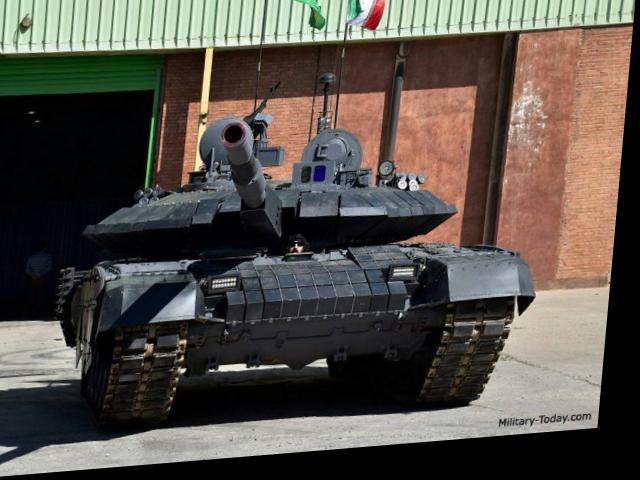tank: (54, 102, 549, 443)
